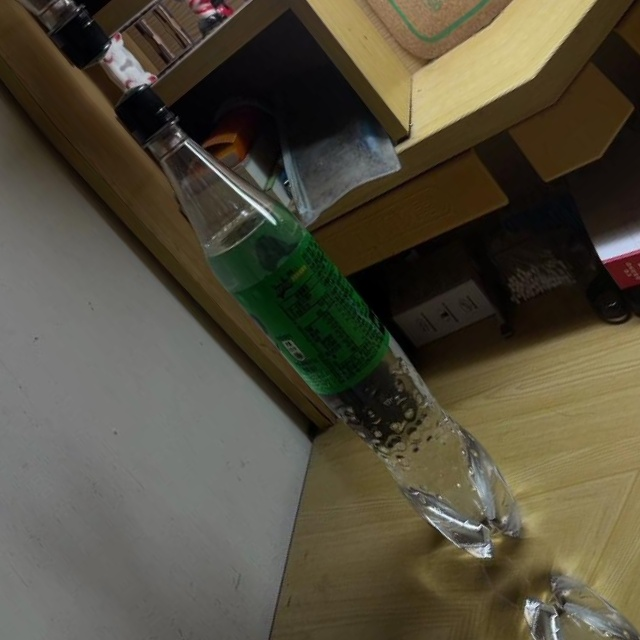Sprite: (84, 57, 549, 584)
